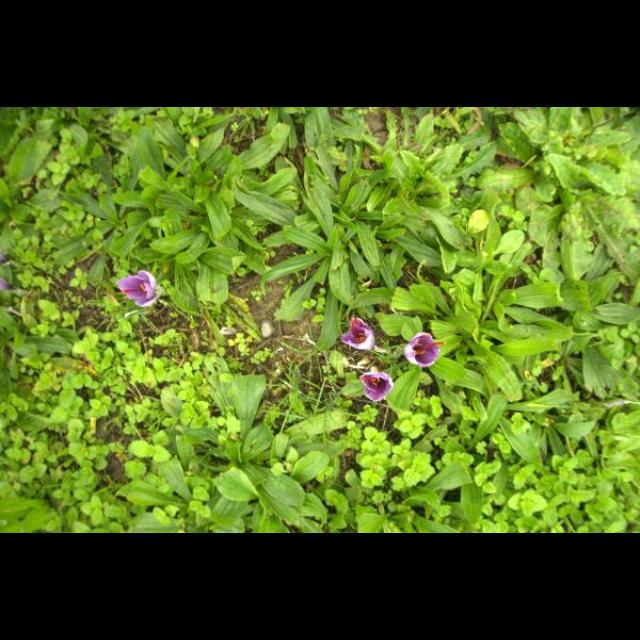flower: (115, 270, 158, 308), (404, 334, 442, 368), (341, 316, 375, 352), (358, 372, 394, 402)
